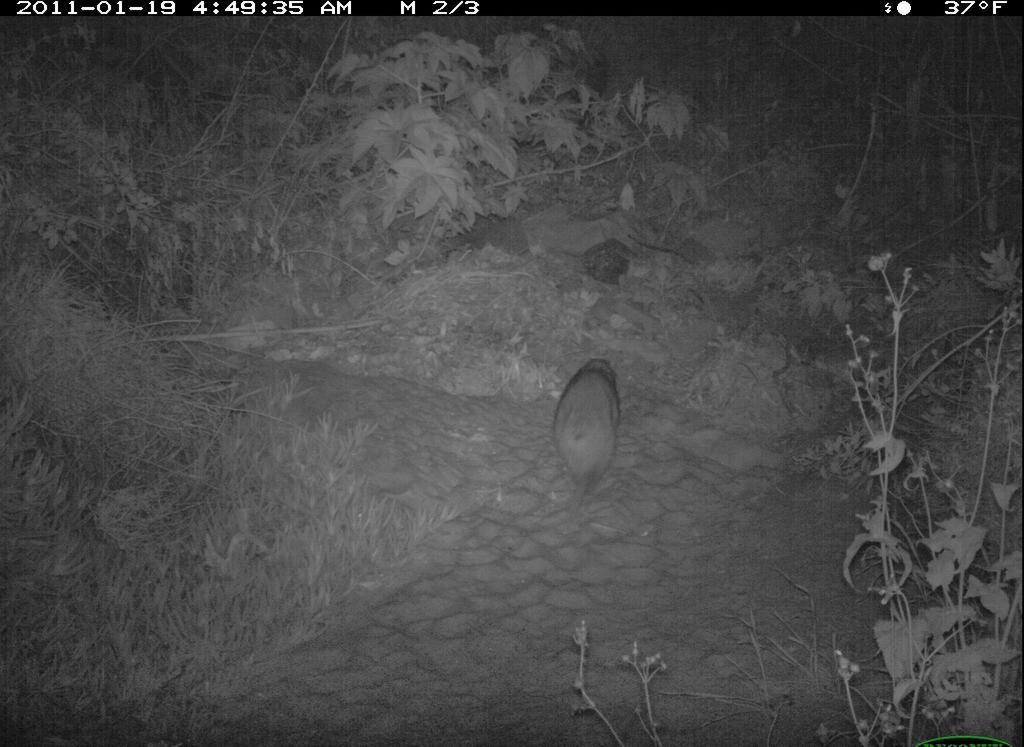raccoon: (550, 358, 626, 516)
